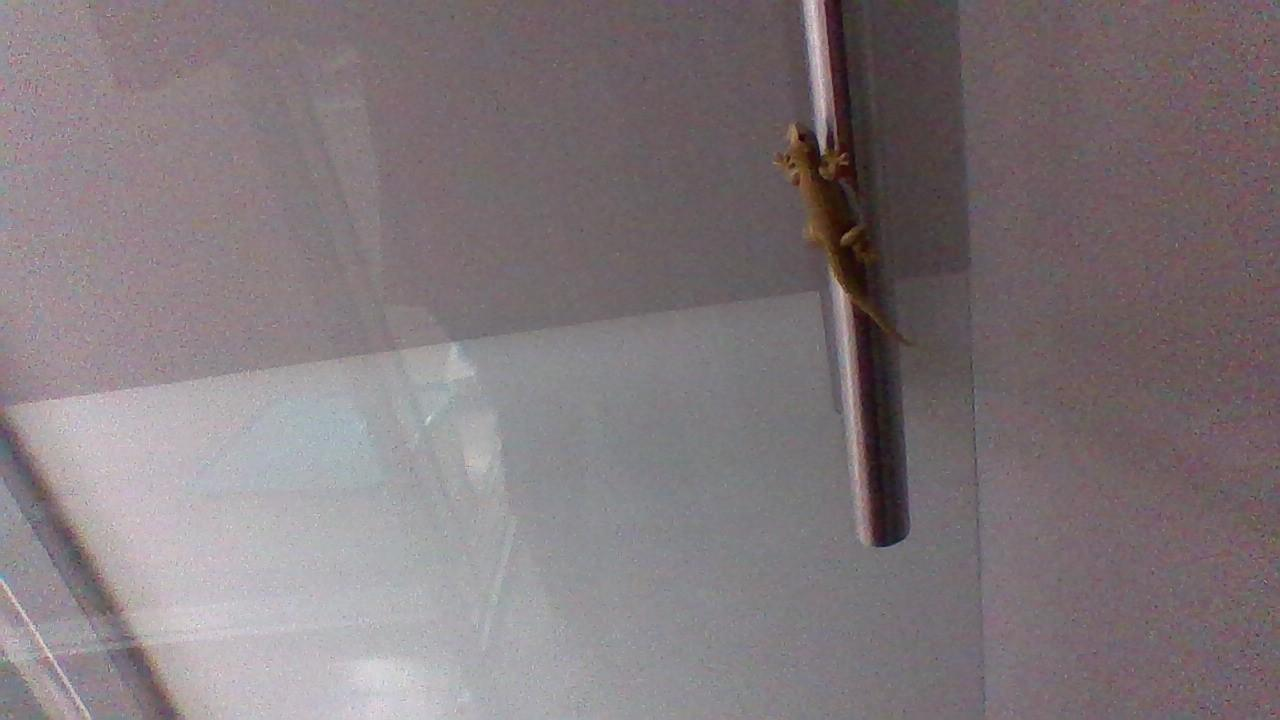lizard: (773, 113, 909, 343)
